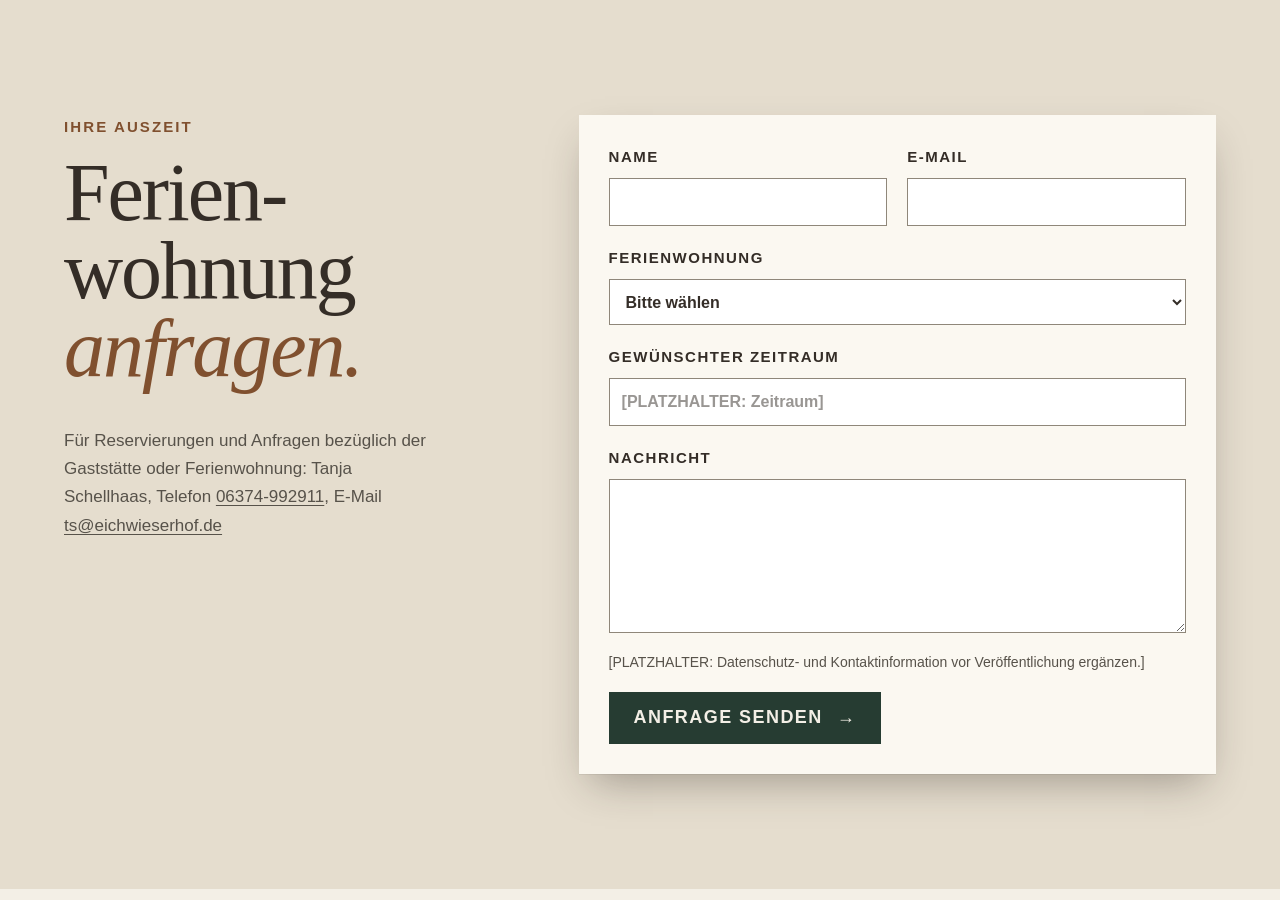
Test case: ApartmentInquiryForm › keeps entered values and shows an error after an HTTP failure
In the field labelled "Name": (748, 202) [608,178,887,226], type "Erika Muster"
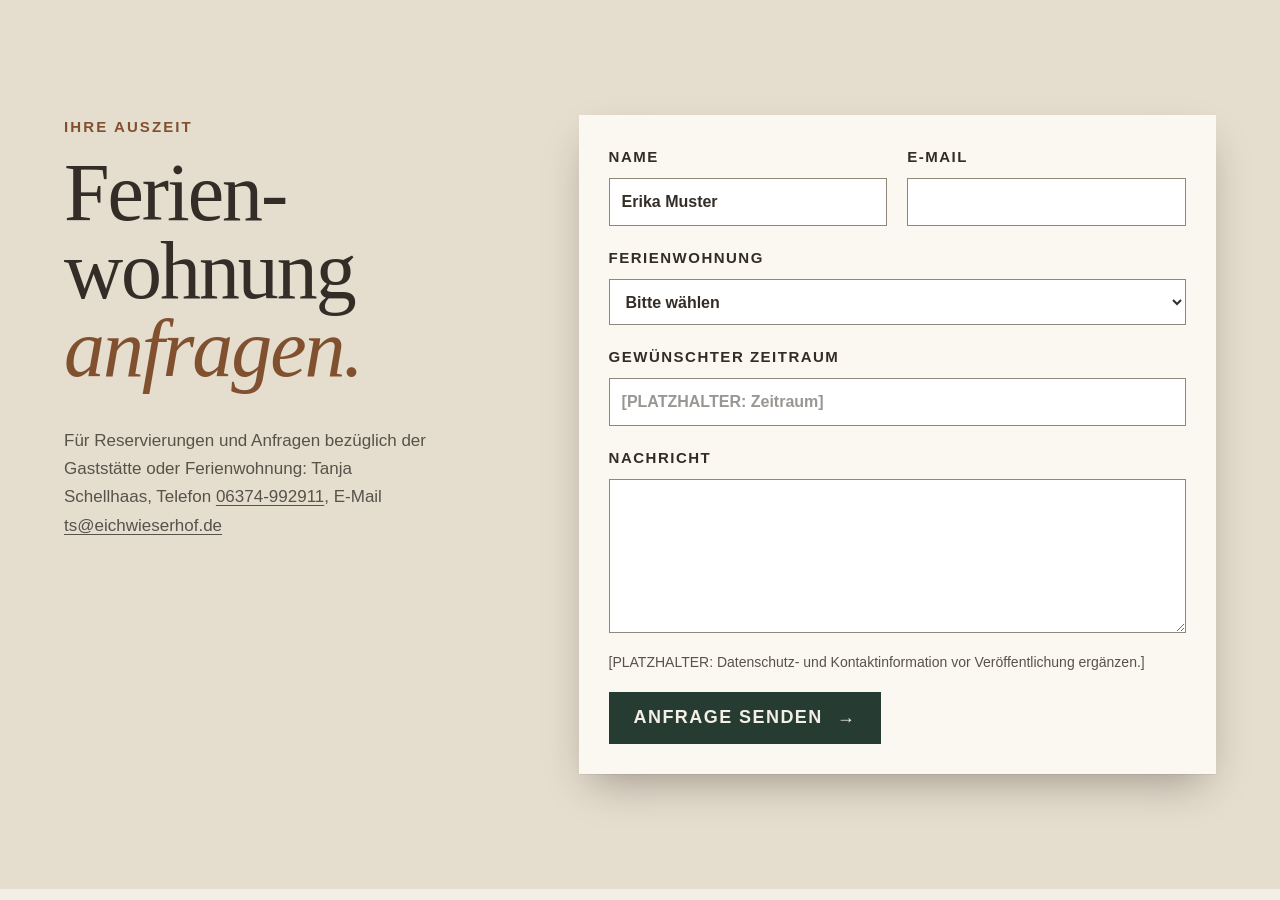
In the field labelled "E-Mail": (1047, 202) [907,178,1186,226], type "erika@example.com"
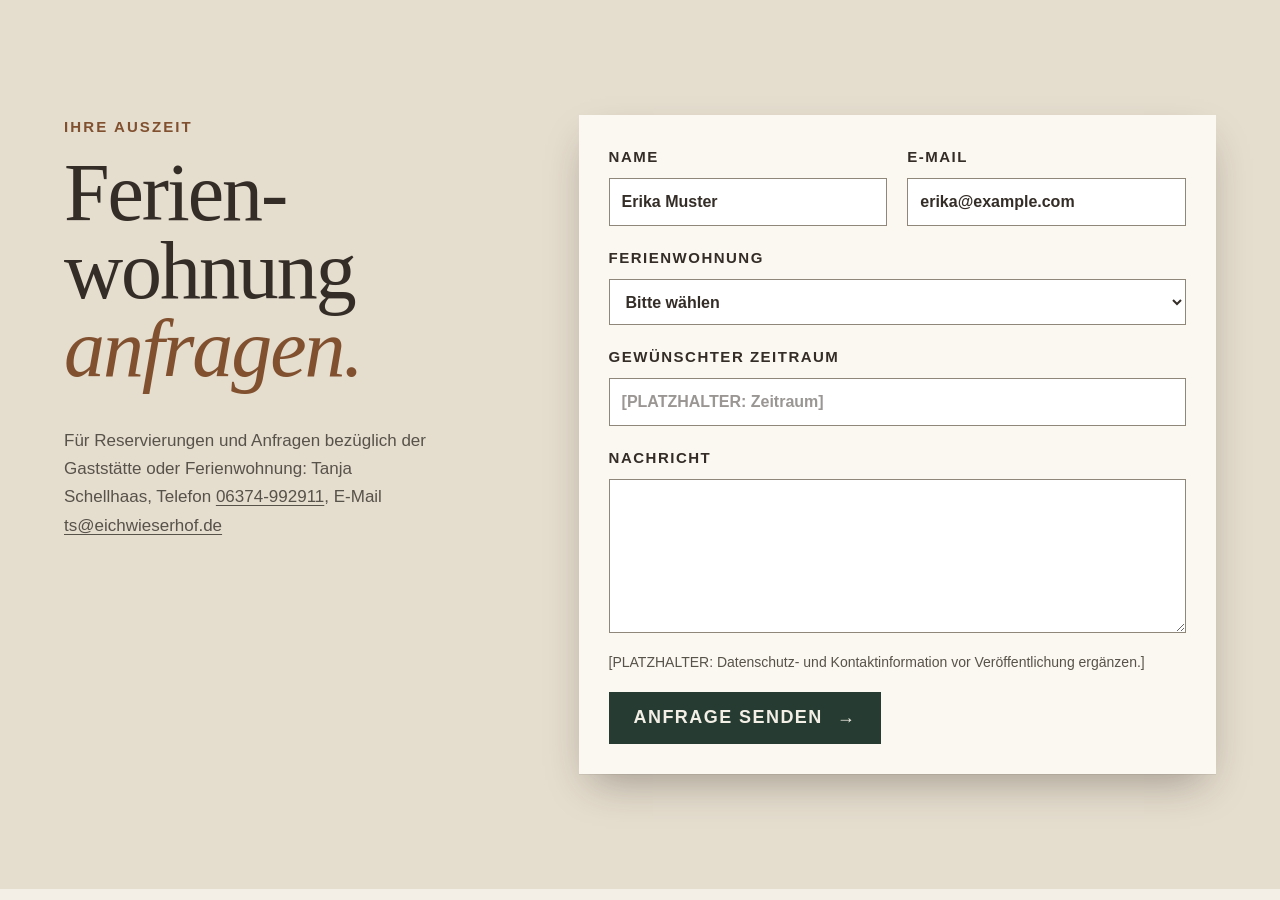
In the text box labelled "Nachricht": (897, 556) [608,479,1186,633], type "Ich interessiere mich für eine Ferienwohnung."
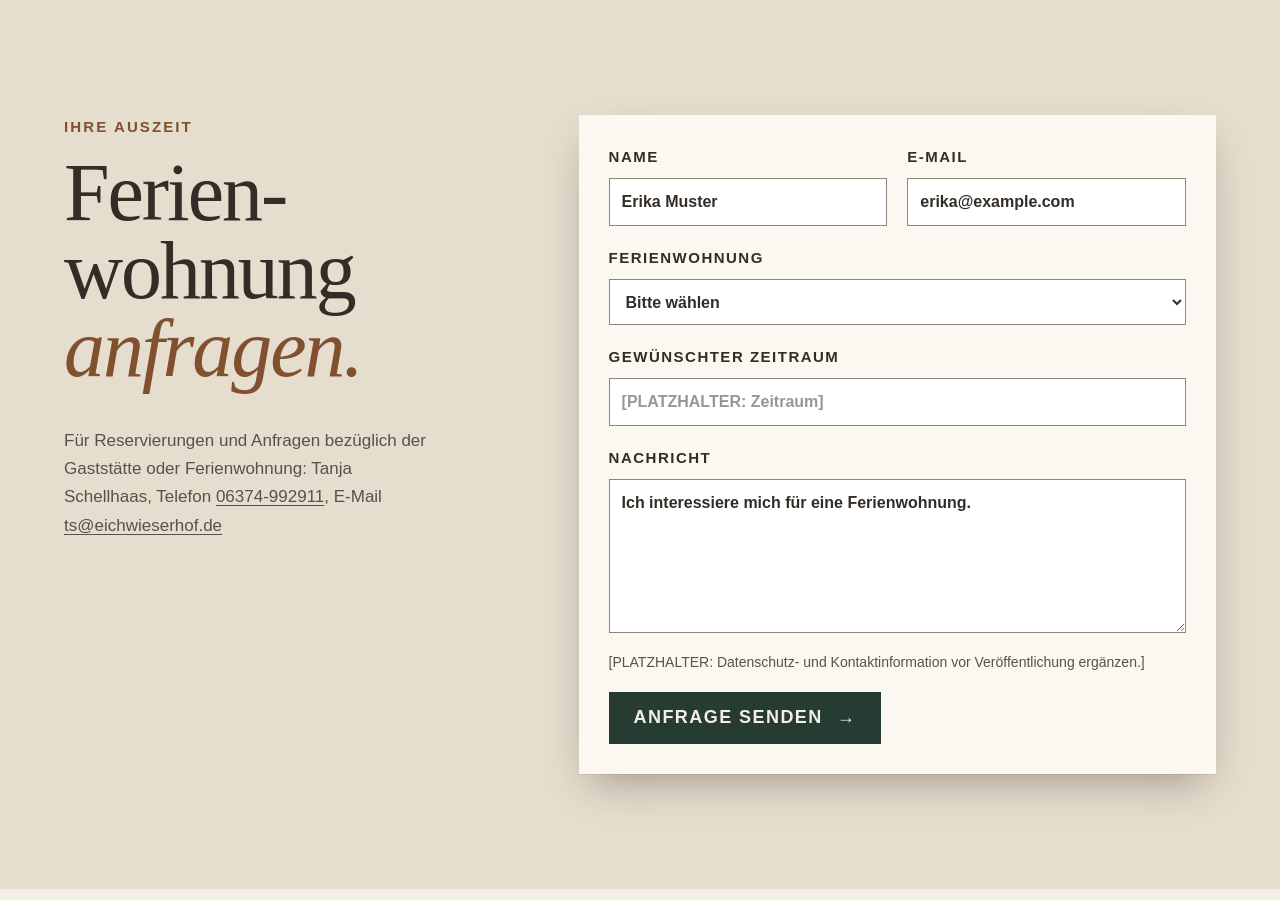
Submit the form named "Anfrage senden", box [578,115,1216,774]
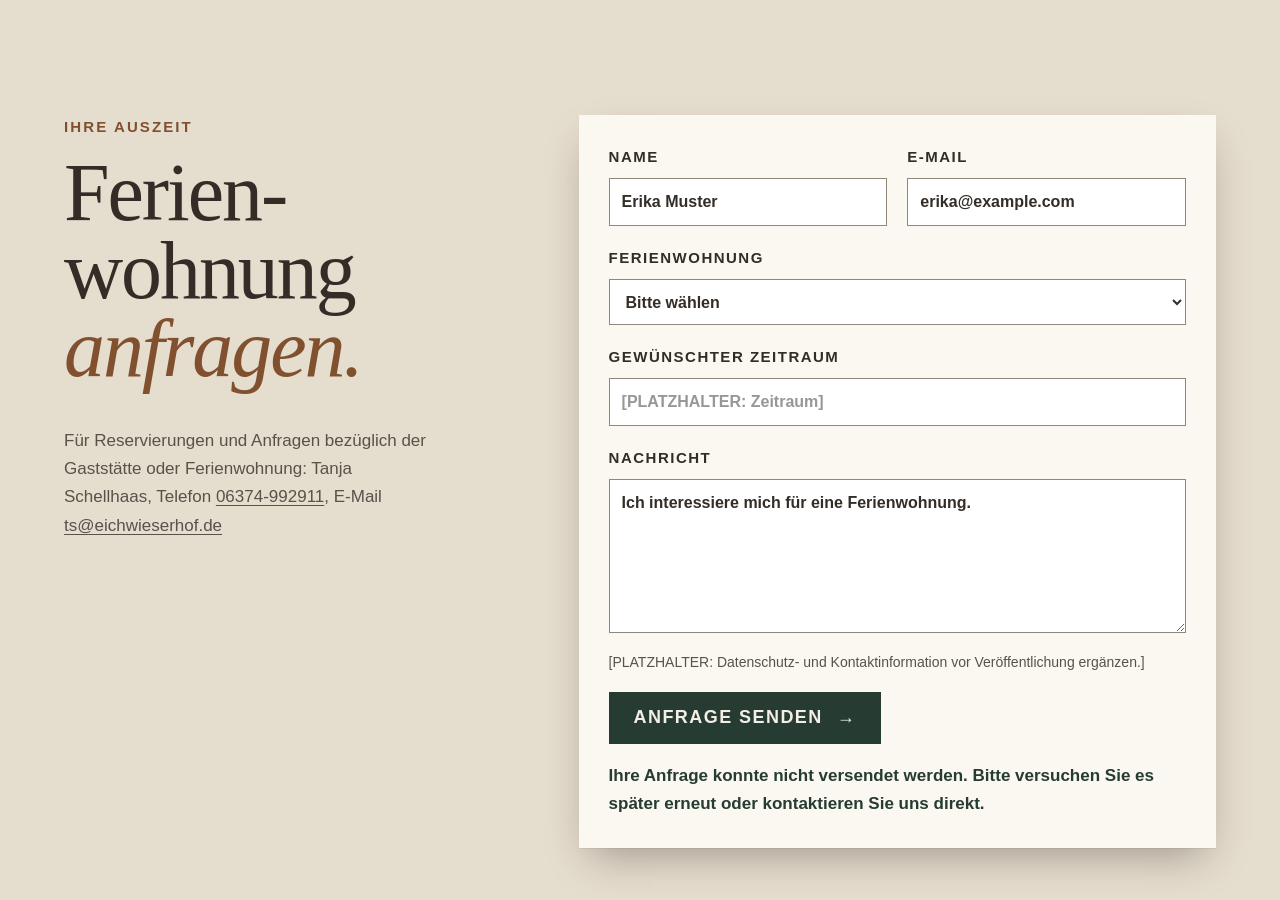
Result: the message shows "konnte nicht versendet werden" at [608,766,1154,813]
